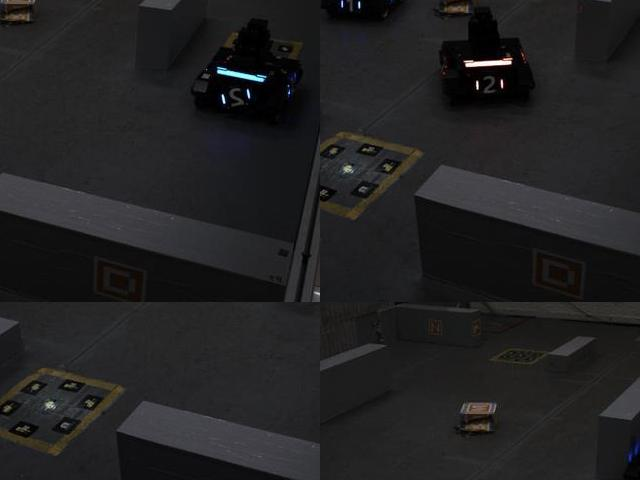armor: (218, 85, 255, 114), (473, 72, 510, 98), (341, 0, 363, 17)
